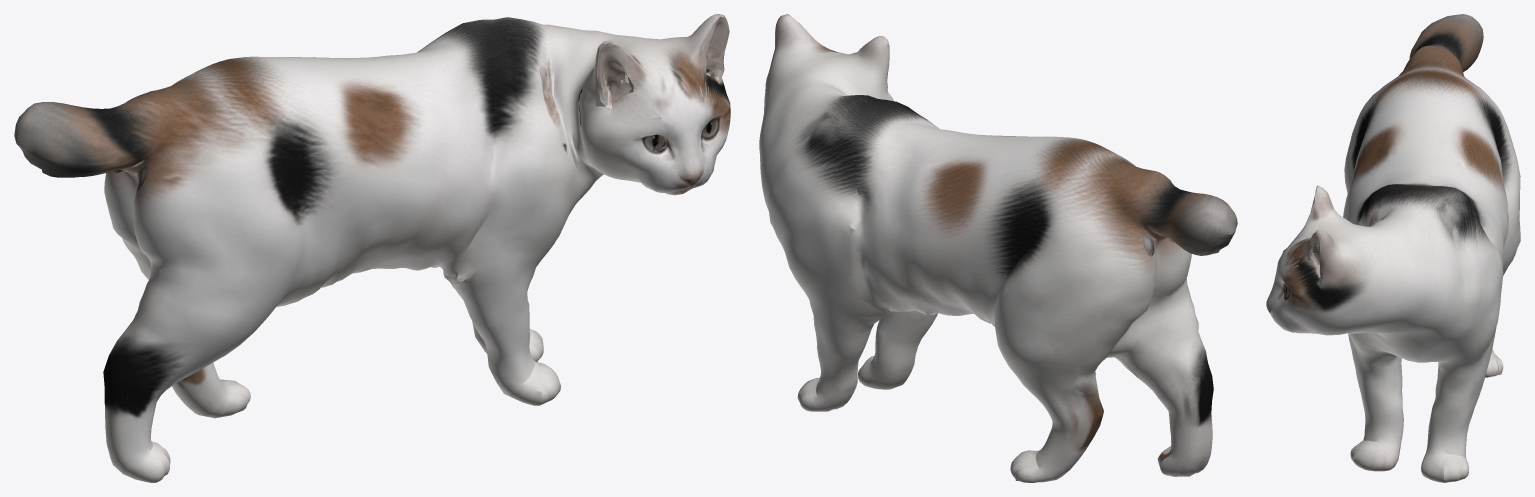
Rendered from cat.glb.
The picture shows the model from 3 angles, left to right: view 1: azimuth 30°, elevation 25°; view 2: azimuth 150°, elevation 25°; view 3: azimuth 270°, elevation 25°; orthographic projection. The views are drawn at different scales.
Parts seen in each view (by area): view 1: Meshy_AI_Calico_Bobtail_Cat_0829012041_texture; view 2: Meshy_AI_Calico_Bobtail_Cat_0829012041_texture; view 3: Meshy_AI_Calico_Bobtail_Cat_0829012041_texture.
Part boxes in pixels (bbox=[...]): Meshy_AI_Calico_Bobtail_Cat_0829012041_texture: bbox=[14, 14, 730, 482]; Meshy_AI_Calico_Bobtail_Cat_0829012041_texture: bbox=[759, 14, 1237, 482]; Meshy_AI_Calico_Bobtail_Cat_0829012041_texture: bbox=[1266, 14, 1520, 482].
Size of the model in its own units: 1.9 by 1.08 by 0.849.
1 material, 1 textured.
